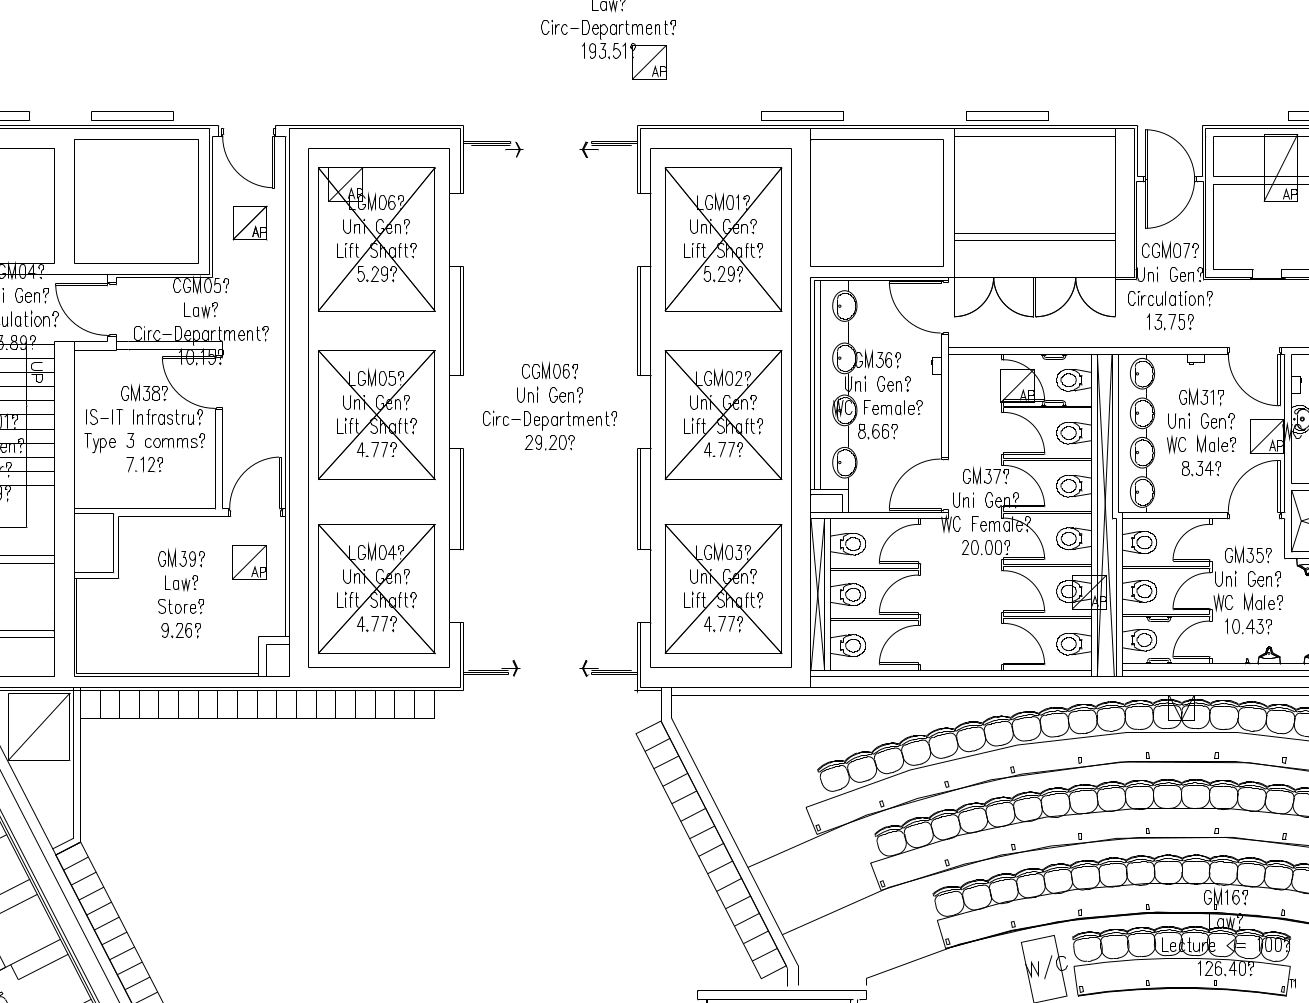door: (1141, 119, 1197, 237), (1219, 334, 1280, 410), (1222, 448, 1282, 524), (951, 276, 1036, 323), (1036, 277, 1120, 324), (160, 353, 221, 418), (222, 453, 283, 518), (884, 446, 945, 511), (886, 276, 947, 341), (217, 127, 278, 192), (52, 278, 115, 338), (1164, 564, 1217, 611), (875, 569, 928, 616), (872, 619, 925, 667), (996, 621, 1049, 668), (997, 568, 1050, 615), (997, 410, 1050, 457), (1165, 616, 1218, 663), (873, 522, 926, 568), (995, 463, 1048, 509), (993, 515, 1046, 562), (1170, 518, 1223, 565)
